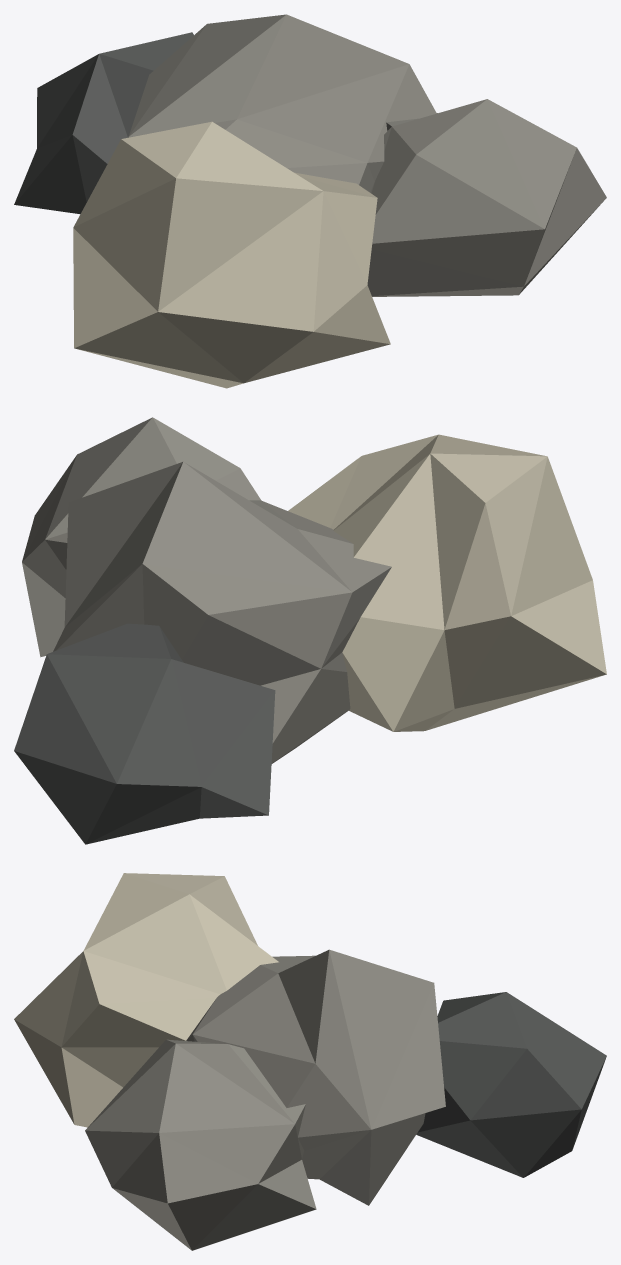
File: rock_4_lod1.glb
3 renders of one model, top to bottom at view 1: azimuth 30°, elevation 25°; view 2: azimuth 150°, elevation 25°; view 3: azimuth 270°, elevation 25°, orthographic. The views are drawn at different scales.
Visible parts, largest first — view 1: rock_4_lod1; view 2: rock_4_lod1; view 3: rock_4_lod1.
Part boxes in pixels (left/top/right/bottom): rock_4_lod1: left=14, top=14, right=606, bottom=388; rock_4_lod1: left=14, top=417, right=606, bottom=844; rock_4_lod1: left=14, top=873, right=606, bottom=1250.
Size of the model in its own units: 1.66 by 0.824 by 1.79.
